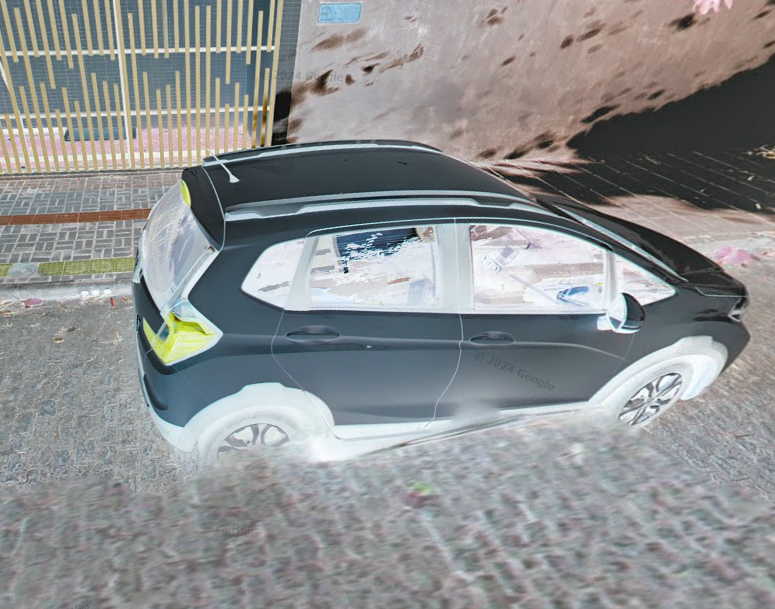car: (129, 135, 753, 498)
